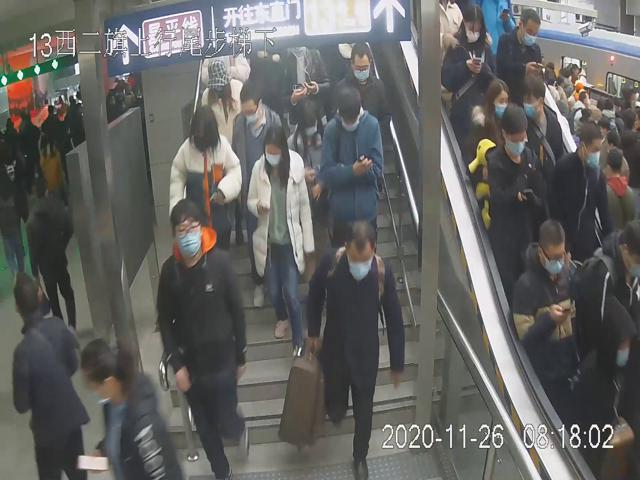person: (290, 217, 408, 478), (156, 199, 251, 480), (245, 123, 314, 360), (506, 216, 583, 388), (165, 104, 240, 261), (318, 88, 385, 259), (485, 103, 545, 265), (441, 5, 494, 132), (331, 44, 390, 133), (229, 79, 282, 170), (283, 100, 332, 192)
